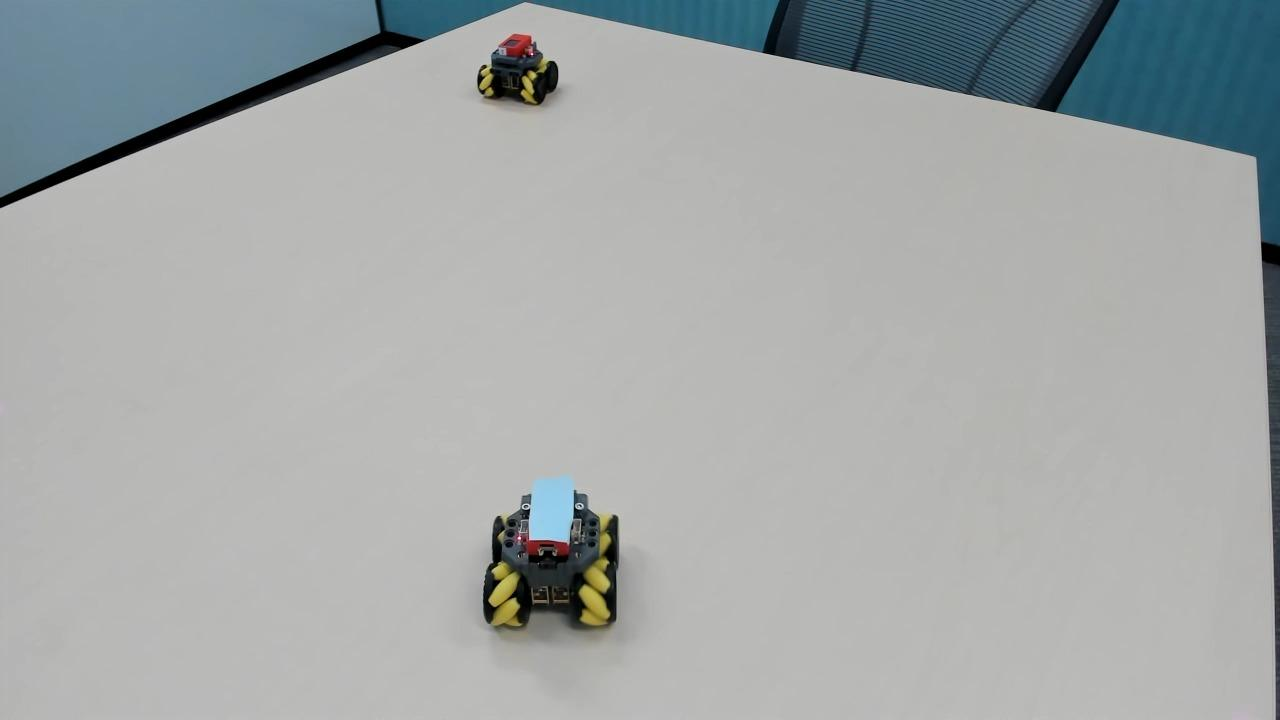B-Robot: (471, 465, 631, 646)
R-Robot: (468, 20, 576, 127)
